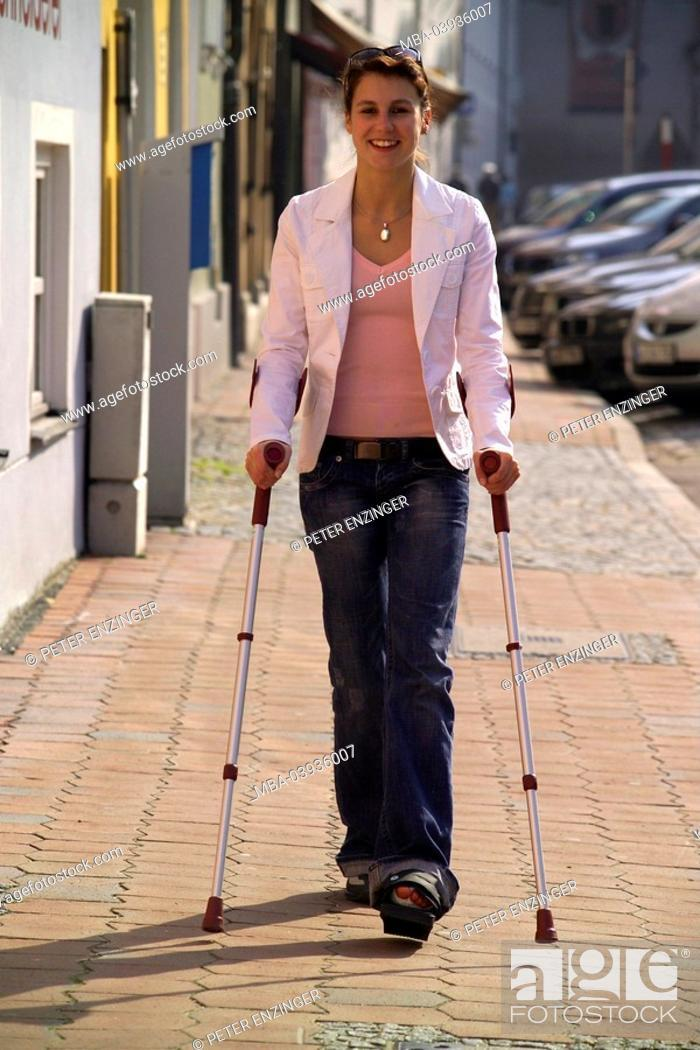crutches: (201, 43, 556, 945)
